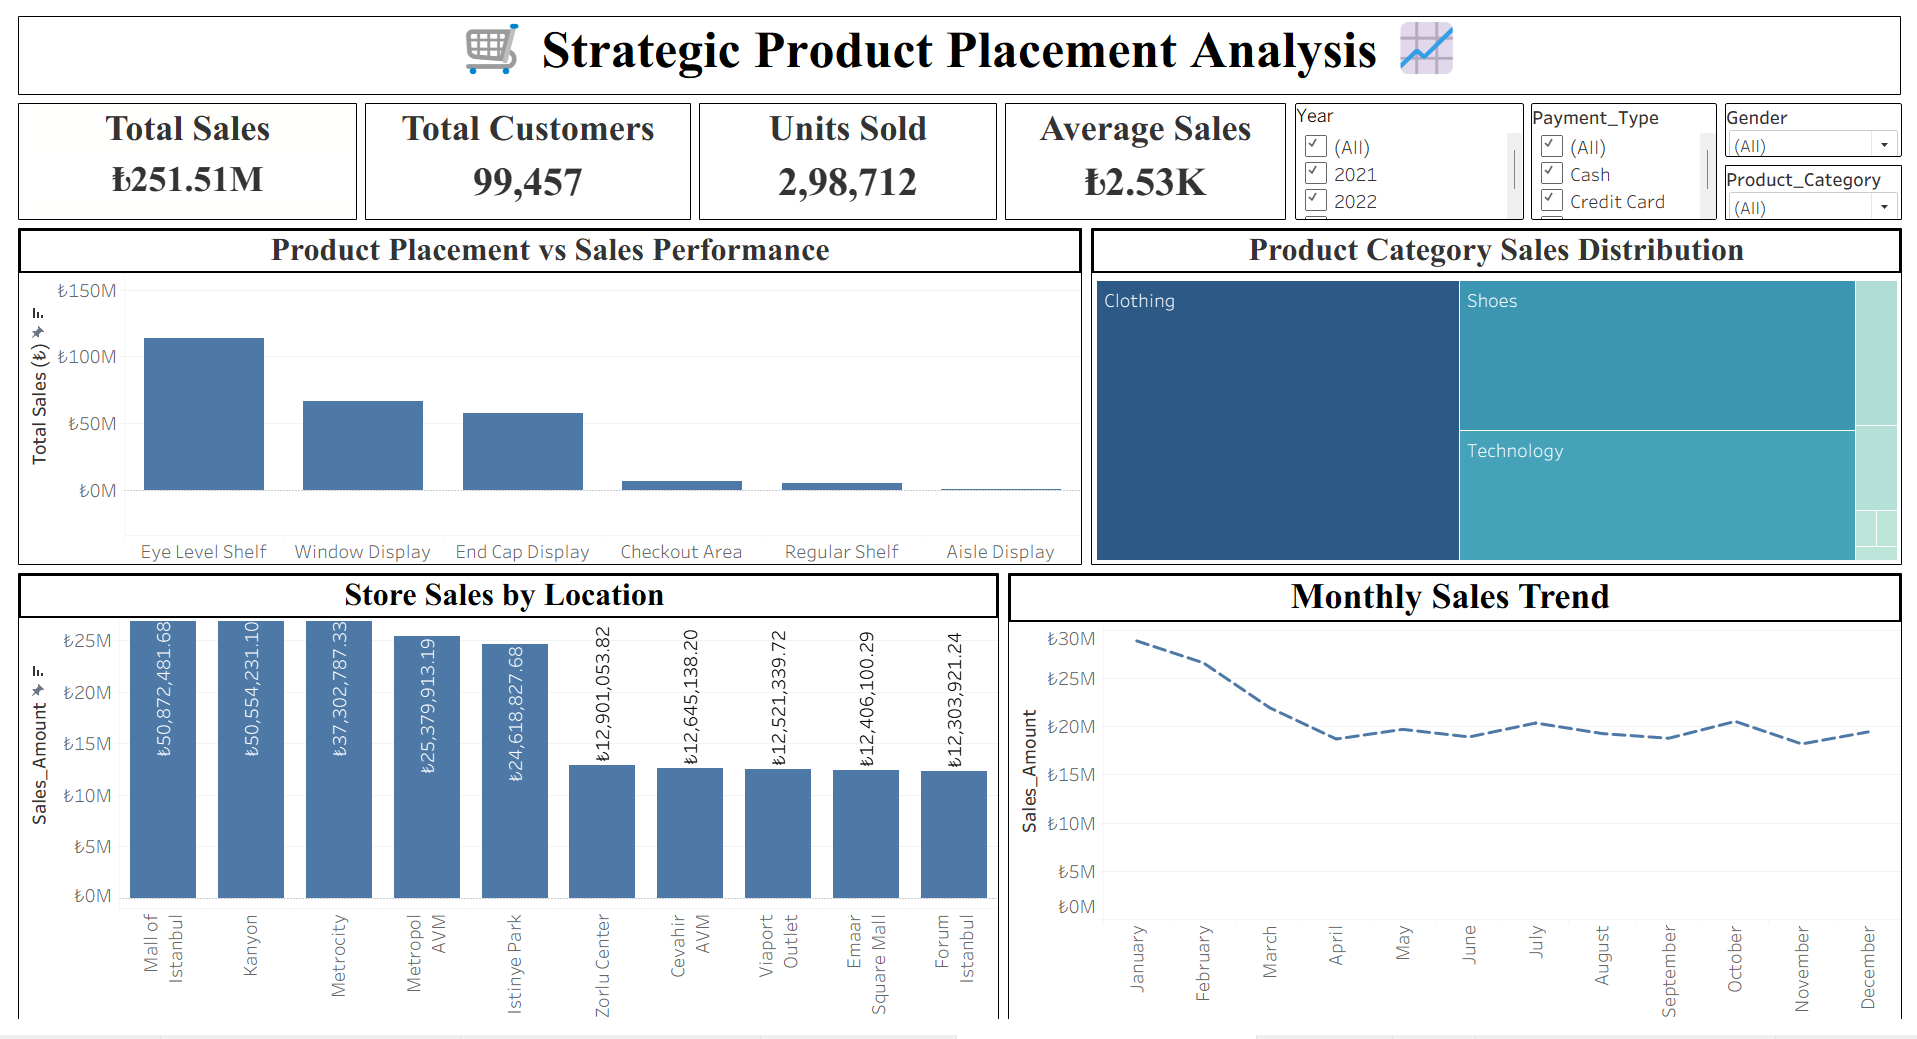

What the dashboard file says about the page in this screenshot:
{"tool":"tableau","page":{"name":"Strategic Product Placement Analysis","canvas":[1000,1000],"units":"permille","ordinal":1},"visuals":[{"type":"title","box":[7.5,11.2,985,115.7]},{"type":"worksheet","title":"Total Sales","mark":"Automatic","box":[7.5,126.9,180.6,166.2]},{"type":"worksheet","title":"Total Customers","mark":"Automatic","box":[188.1,126.9,174,166.2]},{"type":"worksheet","title":"Units Sold","mark":"Automatic","box":[362.1,126.9,159.3,166.2]},{"type":"worksheet","title":"Average Sales","mark":"Automatic","box":[521.5,126.9,150.7,166.2]},{"type":"filter","title":"Product Placement Sales","param":"[federated.0z3gzqj1b9hkjl1cnuuy40u93xja].[yr:Purchase_date:ok]","box":[672.2,126.9,123.3,166.2]},{"type":"filter","title":"Product Placement Sales","param":"[federated.0z3gzqj1b9hkjl1cnuuy40u93xja].[none:Payment_type:nk]","box":[795.4,126.9,100.9,166.2]},{"type":"filter","title":"Product Category Sales Distribution","param":"[federated.0z3gzqj1b9hkjl1cnuuy40u93xja].[none:Gender:nk]","box":[896.4,126.9,96.2,82.9]},{"type":"filter","title":"Product Placement Sales","param":"[federated.0z3gzqj1b9hkjl1cnuuy40u93xja].[none:Product_category:nk]","box":[896.4,209.9,96.2,83.3]},{"type":"worksheet","title":"Product Placement Sales","mark":"Automatic","rows":["Calculation_0503049409961985"],"cols":["Calculation_0503049409503232"],"box":[7.5,293.2,484,458.8]},{"type":"worksheet","title":"Product Category Sales Distribution","mark":"Square","box":[491.5,293.2,500.9,458.8]},{"type":"worksheet","title":"Store Location Sales Performance","mark":"Automatic","rows":["Calculation_0503049409961985"],"cols":["Store_location"],"box":[7.5,751.9,515.3,236.8]},{"type":"worksheet","title":"Monthly Sales Trend","mark":"Automatic","rows":["Calculation_0503049409961985"],"cols":["Purchase_date"],"box":[522.8,751.9,469.7,236.8]}]}

Visuals, with their boxes on the dashboard's canvas, which has no fixed pixel size, in thousandths of its width and height (x1, y1, x2, y2). These are canvas units, not pixel positions in the 1917x1039 screenshot, which may show the page scaled, cropped or inside an application window:
title: 8, 11, 992, 127
"Total Sales" worksheet: 8, 127, 188, 293
"Total Customers" worksheet: 188, 127, 362, 293
"Units Sold" worksheet: 362, 127, 521, 293
"Average Sales" worksheet: 522, 127, 672, 293
"Product Placement Sales" filter: 672, 127, 796, 293
"Product Placement Sales" filter: 795, 127, 896, 293
"Product Category Sales Distribution" filter: 896, 127, 993, 210
"Product Placement Sales" filter: 896, 210, 993, 293
"Product Placement Sales" worksheet: 8, 293, 492, 752
"Product Category Sales Distribution" worksheet (Square marks): 492, 293, 992, 752
"Store Location Sales Performance" worksheet: 8, 752, 523, 989
"Monthly Sales Trend" worksheet: 523, 752, 992, 989
